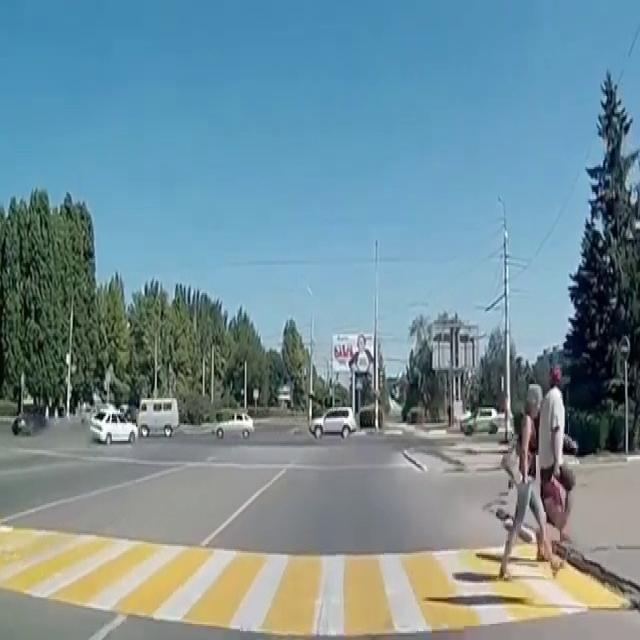moderate: (82, 389, 180, 448)
